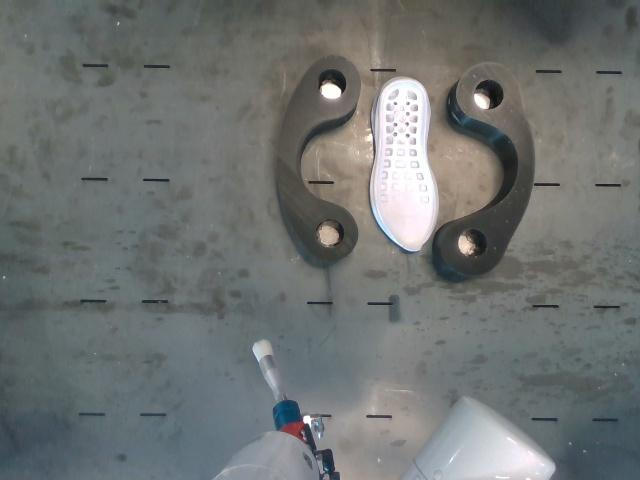shoes: (377, 80, 434, 250)
